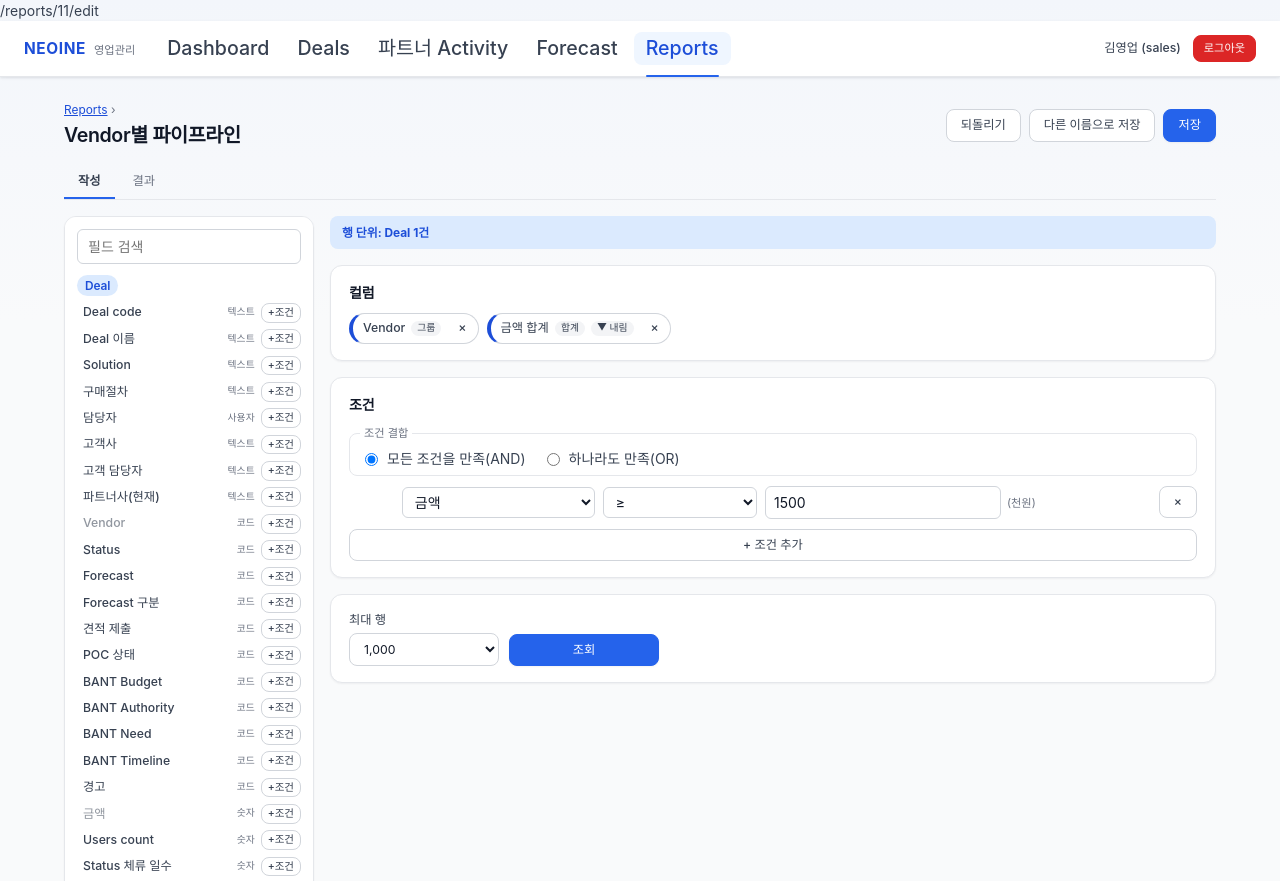
Test: 편집 화면에서 떠날 때 확인 (AC18, S19) › leaves the edit page after the leave button
Click the button with aria-label "Deal code 컬럼에 추가" at [149, 313], box [77,300,222,325]
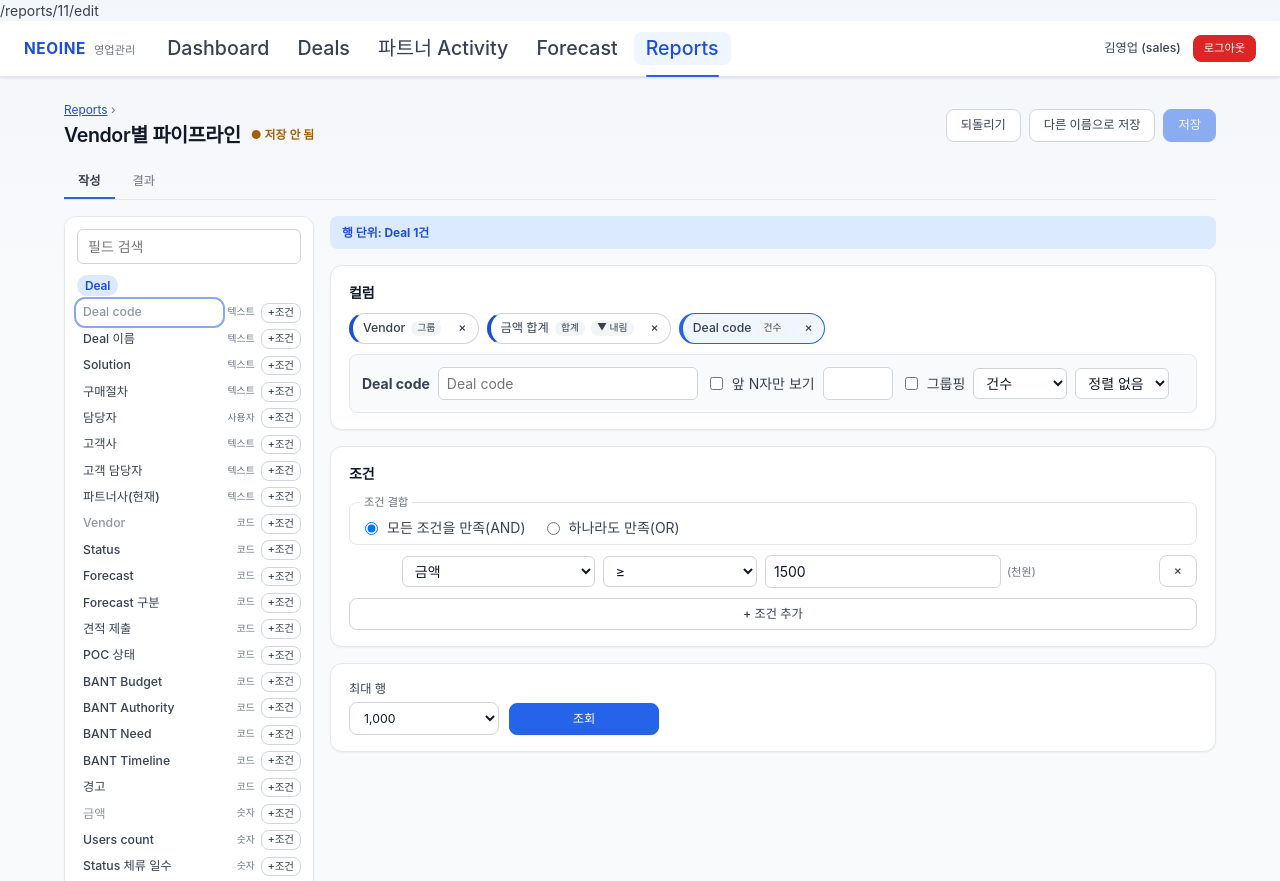
Click the button "Deal code 건수" at [740, 329], box [685,316,796,341]
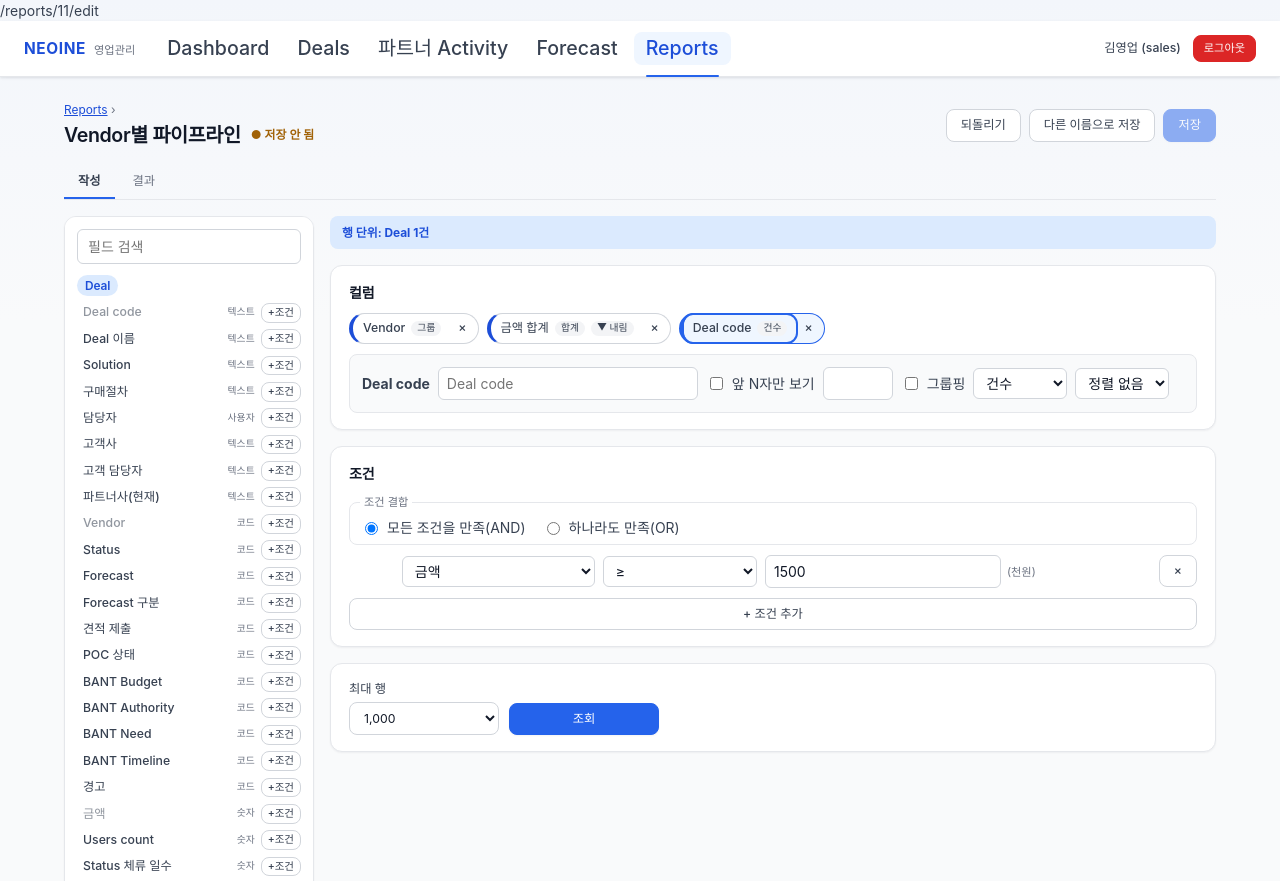
Select "건수" in the dropdown named "집계" at [1020, 383], box [973,368,1067,399]
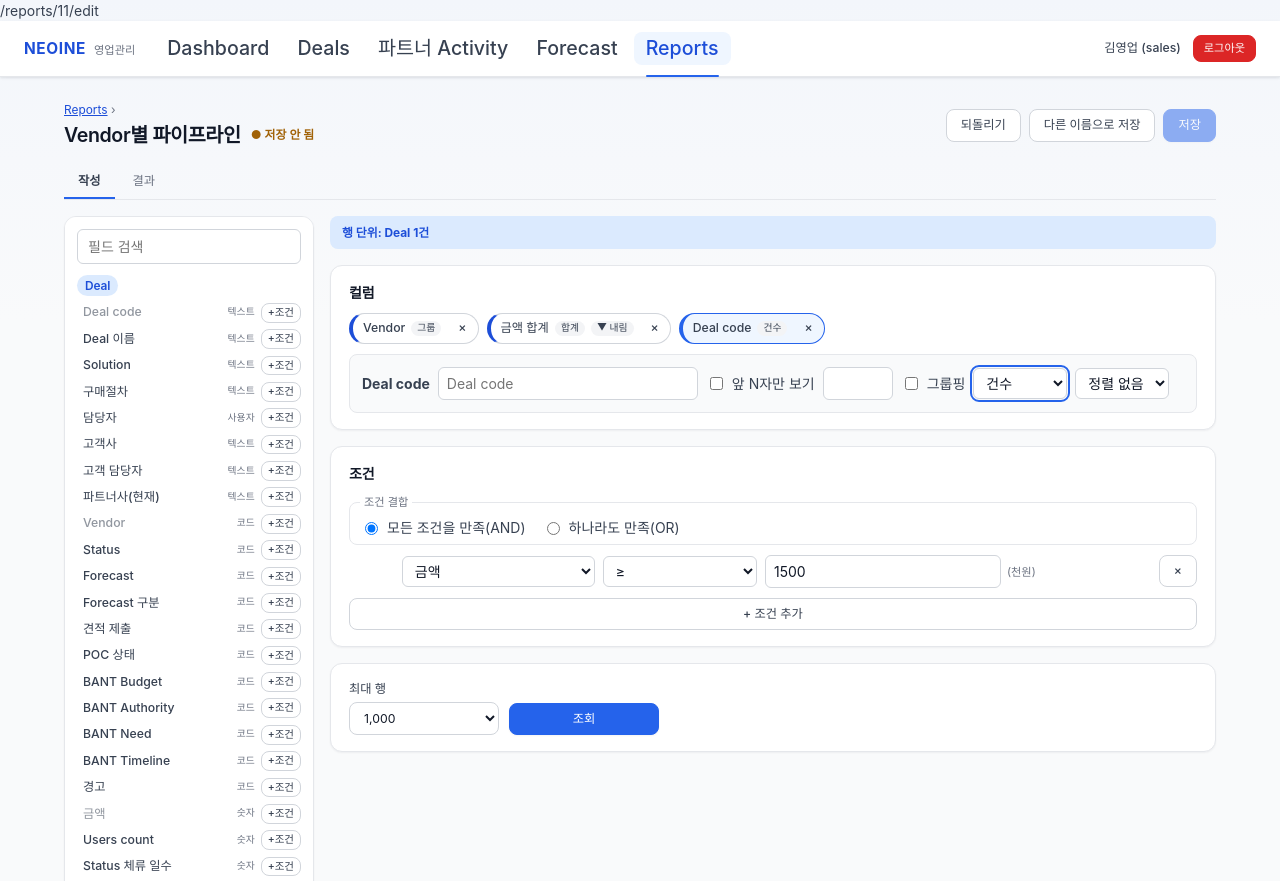
Click the link "Deals" at [324, 48], box [297,36,350,60]
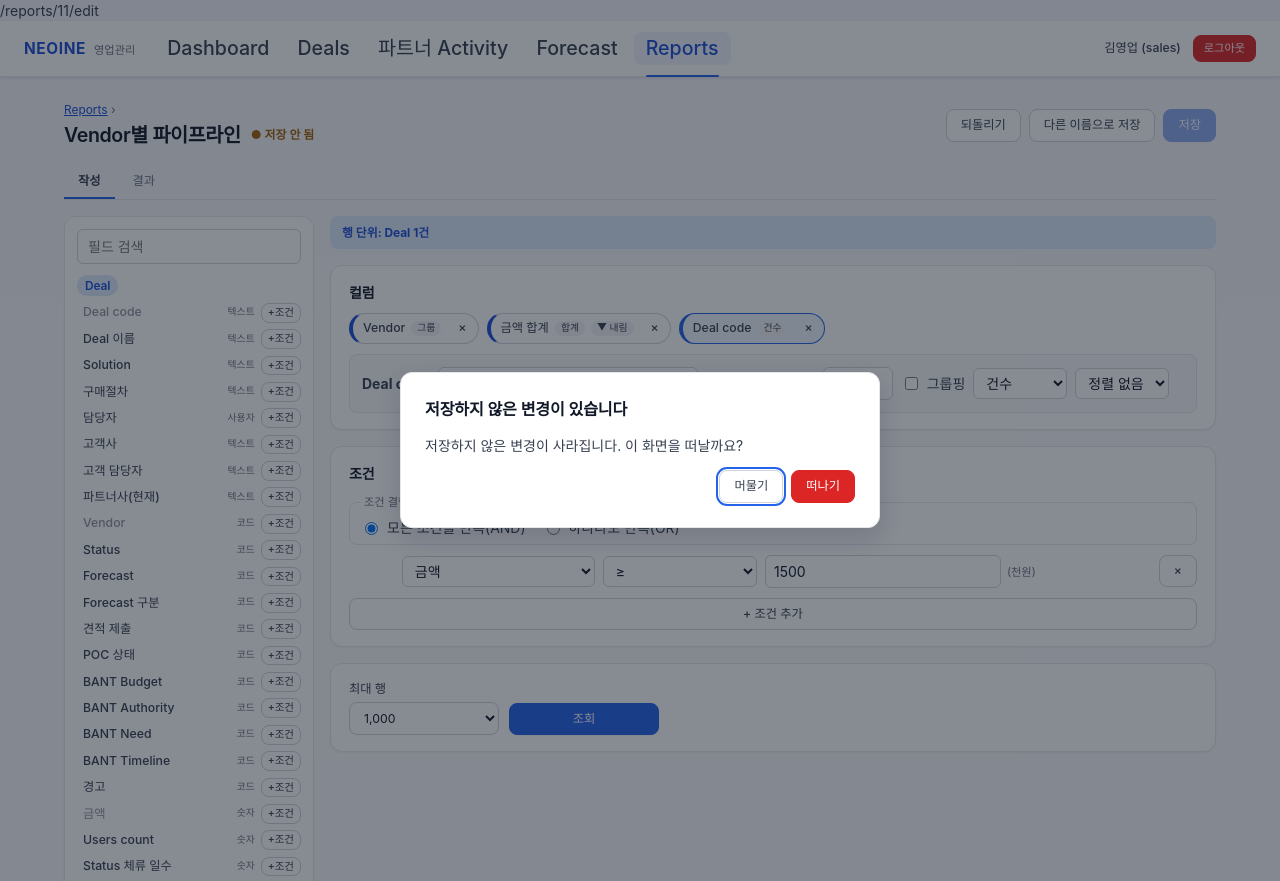
Click the button "떠나기" at [823, 487], box [791,470,855,503]
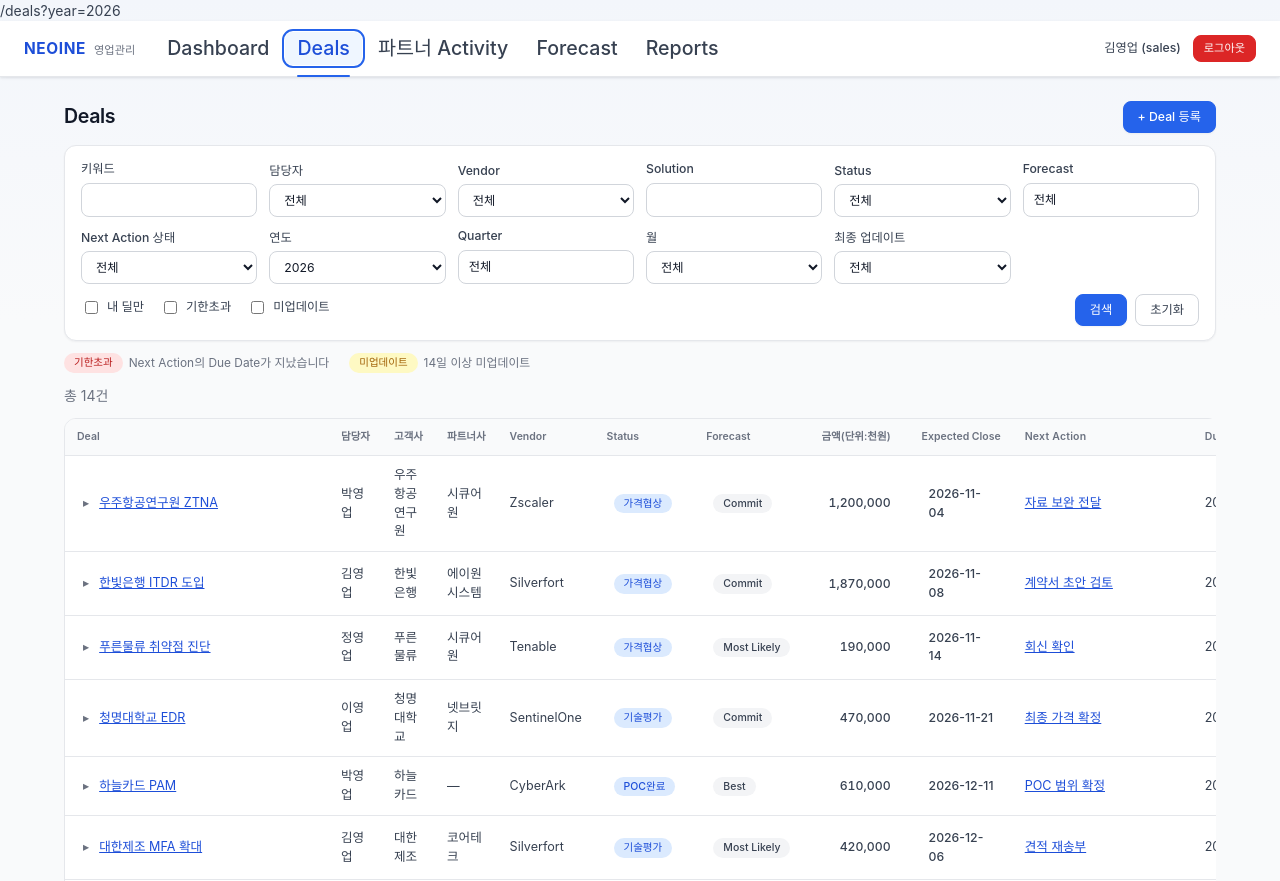
Check: the text with test id "location" shows "/deals", box [0,2,121,19]
